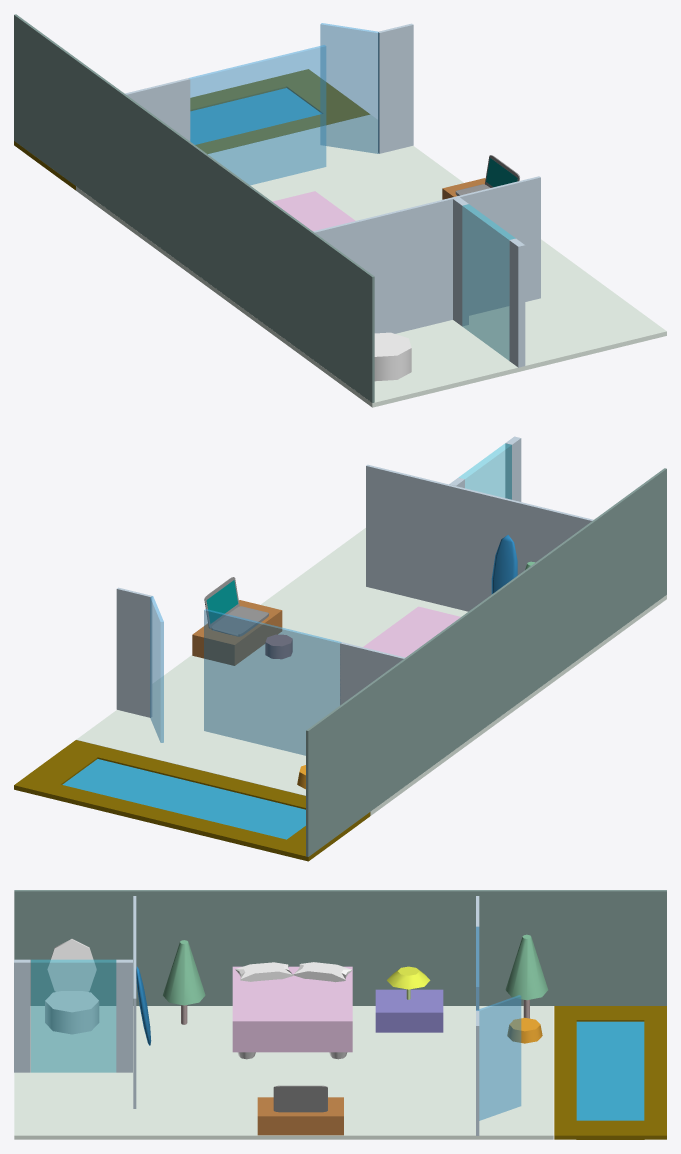
The model's file is home.gltf.
3 renders of one model, top to bottom at view 1: azimuth 30°, elevation 25°; view 2: azimuth 150°, elevation 25°; view 3: azimuth 270°, elevation 25°, orthographic. The views are drawn at different scales.
Parts seen in each view (by area): view 1: Box (×14), PoolDoorBox, Cylinder; view 2: Box (×14), PoolDoorBox, Sphere, Box1, MbpScreenBox, Cylinder; view 3: Box (×15), Cylinder (×6), PoolDoorBox, LampDeskBox, Box_1, PillowBox1, PillowBox2, Sphere.
Part boxes in pixels (x1,y1,x2,y2): Box (×14): (14,14,666,407); PoolDoorBox: (320,23,379,153); Cylinder: (374,332,411,381); Box (×14): (14,436,666,861); PoolDoorBox: (150,596,163,742); Sphere: (491,535,517,594); Box1: (211,606,268,636); MbpScreenBox: (206,580,238,623); Cylinder: (265,634,292,659); Box (×15): (14,890,666,1139); Cylinder (×6): (45,934,548,1043); PoolDoorBox: (476,995,521,1120); LampDeskBox: (375,989,443,1032); Box_1: (273,1085,327,1112); PillowBox1: (235,962,293,981); PillowBox2: (293,962,351,982); Sphere: (136,966,151,1045).
Bounding box in the file's own units: 6.89 × 2.95 × 14.52.
